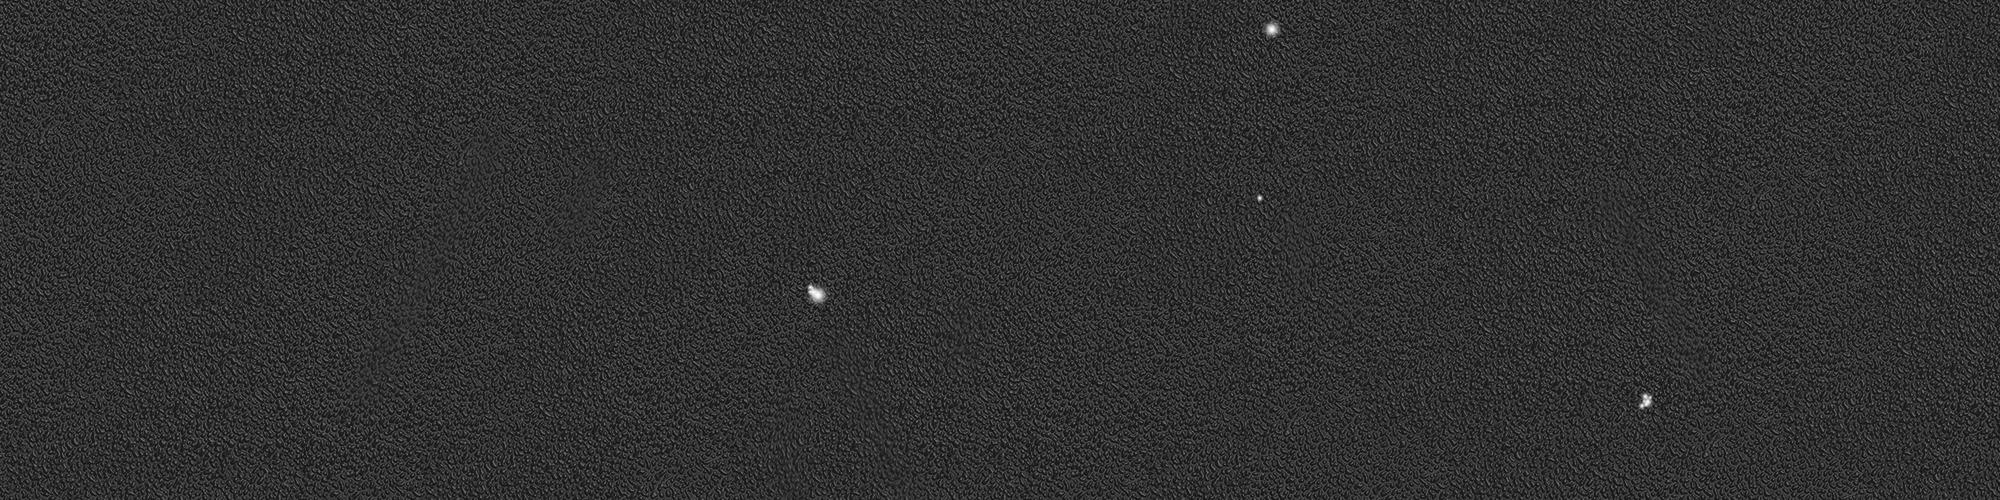Particles: (804, 283, 832, 305), (1261, 19, 1283, 42), (1635, 389, 1658, 409), (1253, 187, 1267, 203)
